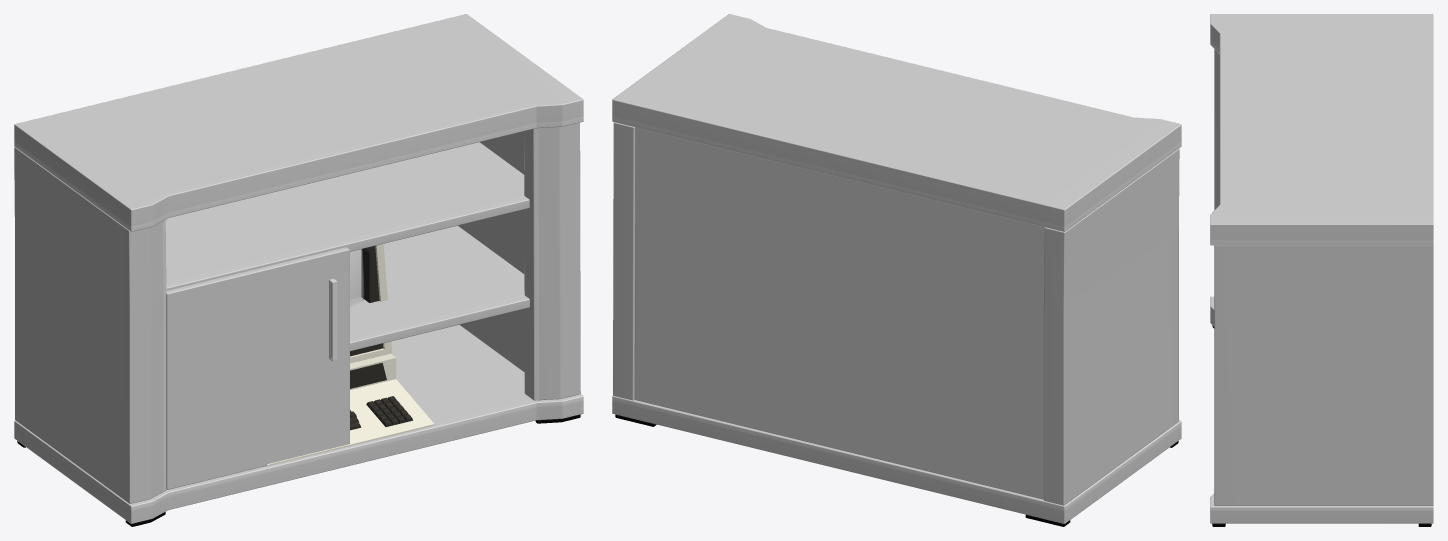
File: RetroComp.fbx
The picture shows the model from 3 angles, left to right: view 1: azimuth 30°, elevation 25°; view 2: azimuth 150°, elevation 25°; view 3: azimuth 270°, elevation 25°; orthographic projection. The views are drawn at different scales.
Visible parts, largest first — view 1: TV Cabinet, Retro8000, Monitor, Keys, Glass, NamePlate; view 2: TV Cabinet; view 3: TV Cabinet.
Part boxes in pixels (box(x1,y1,x2,y2)): TV Cabinet: box(14, 14, 583, 526); Retro8000: box(266, 353, 434, 466); Monitor: box(350, 243, 392, 363); Keys: box(350, 396, 412, 430); Glass: box(350, 249, 364, 306); NamePlate: box(350, 363, 386, 388); TV Cabinet: box(612, 14, 1181, 526); TV Cabinet: box(1210, 14, 1433, 526).
Size of the model in its own units: 107 by 71.97 by 47.97.
